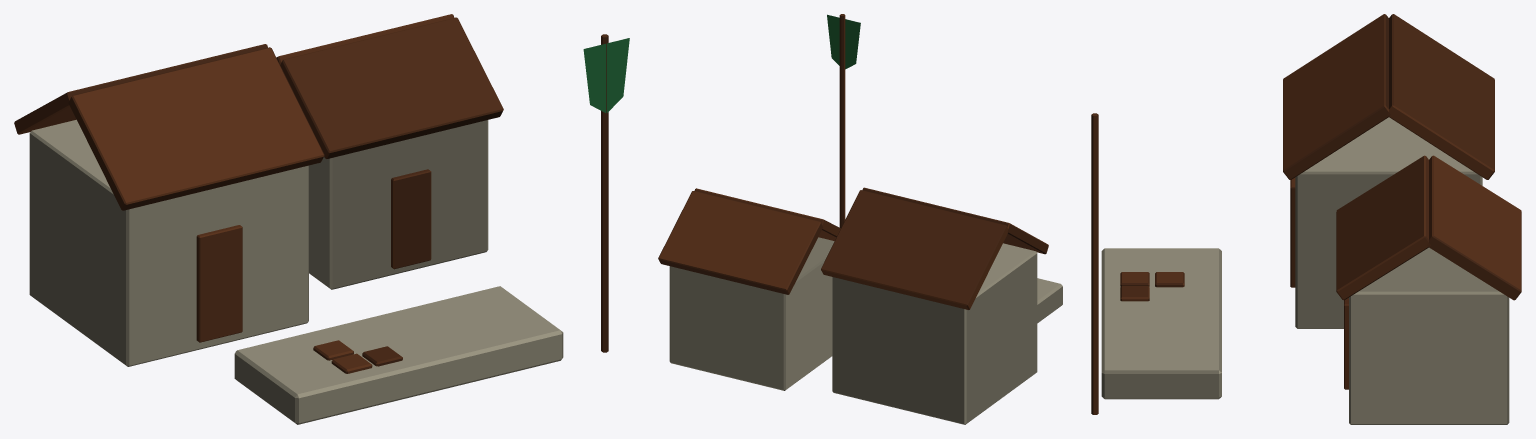
File: edificio-b_015-e2-Dw5hM-0Y.glb
The picture shows the model from 3 angles, left to right: view 1: azimuth 30°, elevation 25°; view 2: azimuth 150°, elevation 25°; view 3: azimuth 270°, elevation 25°; orthographic projection. The views are drawn at different scales.
Visible parts, largest first — view 1: edificio_b_015_e2_envolvente, edificio_b_015_e2_detalles, edificio_b_015_e2_team_color; view 2: edificio_b_015_e2_envolvente, edificio_b_015_e2_detalles, edificio_b_015_e2_team_color; view 3: edificio_b_015_e2_envolvente, edificio_b_015_e2_detalles.
Part boxes in pixels (x1,y1,x2,y2): edificio_b_015_e2_envolvente: (29, 119, 563, 424); edificio_b_015_e2_detalles: (14, 14, 608, 373); edificio_b_015_e2_team_color: (583, 38, 629, 112); edificio_b_015_e2_envolvente: (669, 237, 1062, 424); edificio_b_015_e2_detalles: (658, 14, 1048, 309); edificio_b_015_e2_team_color: (827, 14, 860, 69); edificio_b_015_e2_envolvente: (1101, 117, 1509, 424); edificio_b_015_e2_detalles: (1091, 14, 1521, 414).
Bounding box in the file's own units: 33.4 × 25 × 32.2.
Materials: 3 (3 with a texture image).
